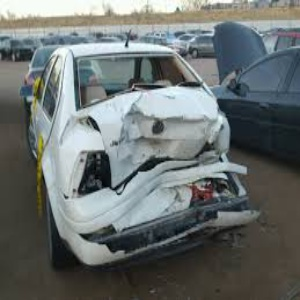bonnet: (94, 85, 221, 133)
bumper: (70, 190, 264, 254)
